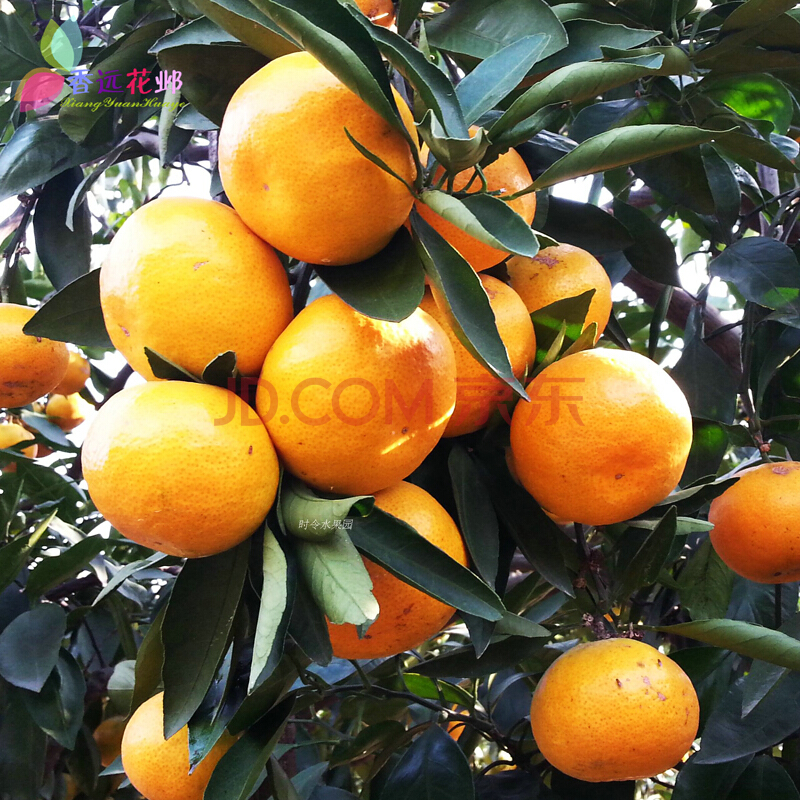orange: (219, 45, 418, 262), (256, 292, 454, 494), (99, 194, 297, 386), (84, 378, 278, 555), (284, 469, 465, 655), (512, 342, 693, 525), (396, 269, 540, 437), (531, 638, 700, 780), (405, 118, 543, 278), (120, 687, 239, 798), (502, 241, 612, 353), (710, 460, 800, 585), (1, 298, 64, 403)
